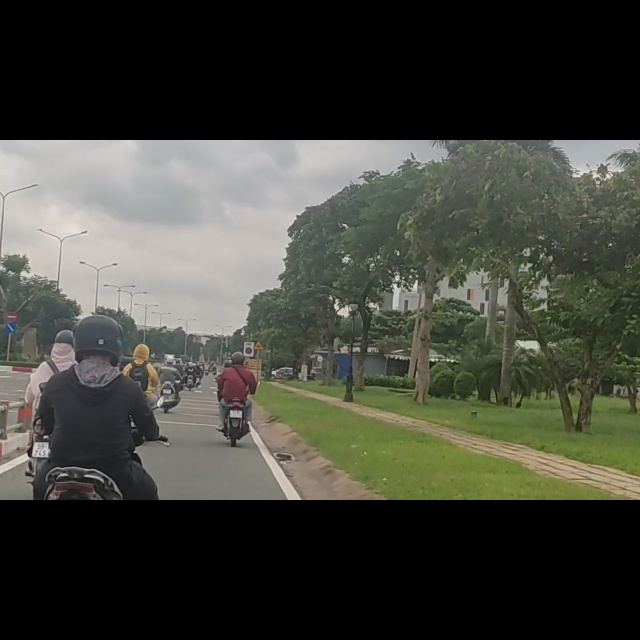bien_hieu_lenh: (6, 325, 17, 343), (7, 303, 17, 322), (254, 353, 264, 372), (246, 369, 253, 380)
